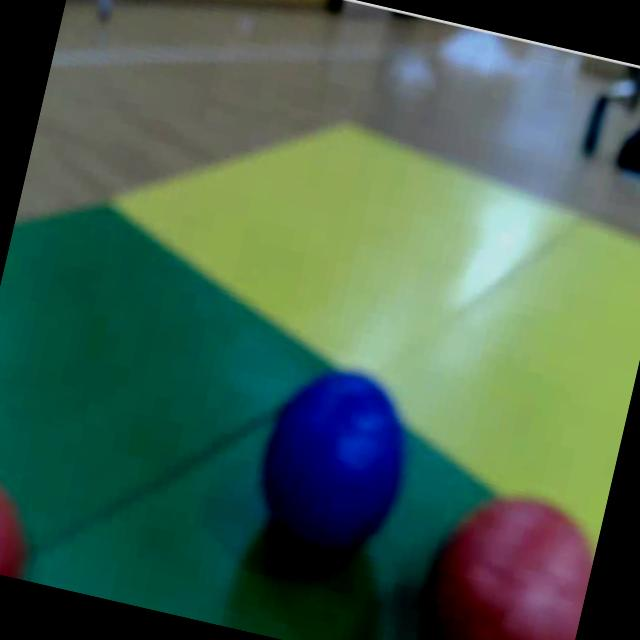blue_ball: (232, 356, 430, 583)
red_ball: (403, 470, 605, 640), (0, 450, 53, 581)
